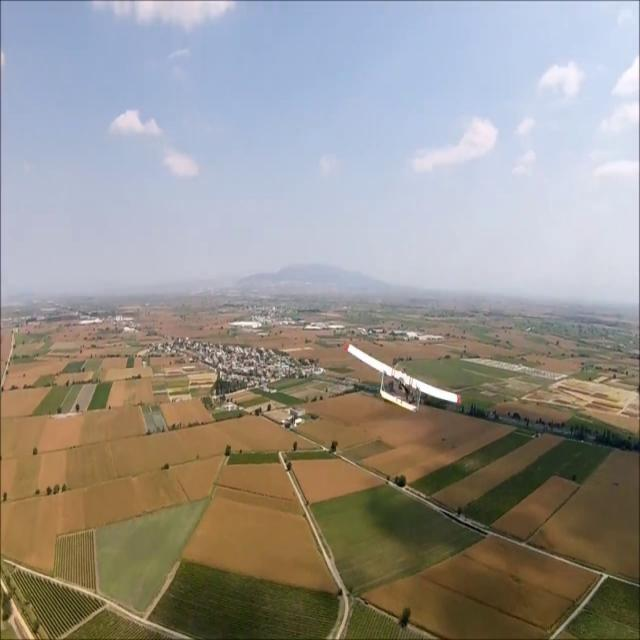iha: (338, 372, 467, 386)
